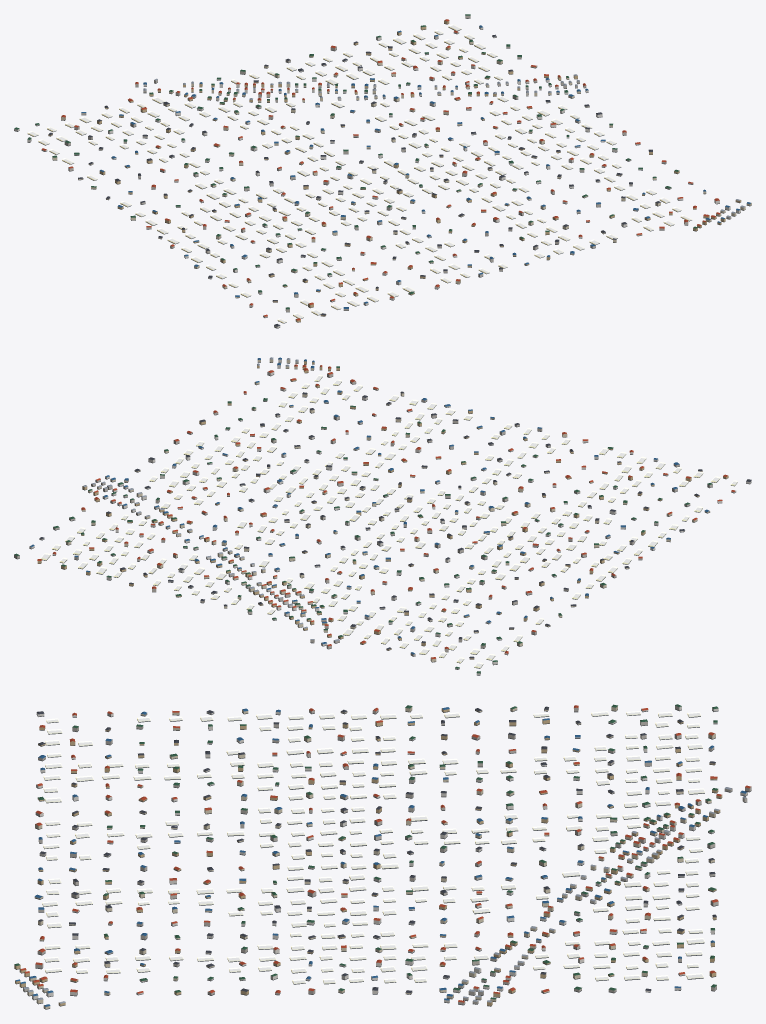
The model's file is buildings_T_W02_N02.glb.
3 views of the same model, one above another, from view 1: azimuth 30°, elevation 25°; view 2: azimuth 150°, elevation 25°; view 3: azimuth 270°, elevation 25° (orthographic). The views are drawn at different scales.
Visible parts, largest first — view 1: T_W02_N02_roofs_agri_greenhouse_arch, T_W02_N02_slope_seating_foundations, T_W02_N02_walls_wall_french_ochre_villa, T_W02_N02_walls_wall_dalat_cream_stucco, T_W02_N02_walls_wall_modern_warm_white, T_W02_N02_walls_wall_pastel_sand_gray, T_W02_N02_roofs_roof_terracotta_gable, T_W02_N02_roofs_roof_pine_green_hip, T_W02_N02_roofs_roof_slate_French_villa_hip, T_W02_N02_roofs_roof_highland_blue_gable; view 2: T_W02_N02_roofs_agri_greenhouse_arch, T_W02_N02_slope_seating_foundations, T_W02_N02_walls_wall_french_ochre_villa, T_W02_N02_walls_wall_dalat_cream_stucco, T_W02_N02_walls_wall_pastel_sand_gray, T_W02_N02_walls_wall_modern_warm_white, T_W02_N02_roofs_roof_terracotta_gable, T_W02_N02_roofs_roof_pine_green_hip, T_W02_N02_roofs_roof_slate_French_villa_hip, T_W02_N02_roofs_roof_highland_blue_gable; view 3: T_W02_N02_roofs_agri_greenhouse_arch, T_W02_N02_slope_seating_foundations, T_W02_N02_walls_wall_french_ochre_villa, T_W02_N02_walls_wall_dalat_cream_stucco, T_W02_N02_walls_wall_pastel_sand_gray, T_W02_N02_walls_wall_modern_warm_white, T_W02_N02_roofs_roof_terracotta_gable, T_W02_N02_roofs_roof_pine_green_hip, T_W02_N02_roofs_roof_slate_French_villa_hip, T_W02_N02_roofs_roof_highland_blue_gable, T_W02_N02_roofs_roof_zinc_silver_gable.
Boxes of the visible parts, x1,y1,x2,y2 form: T_W02_N02_roofs_agri_greenhouse_arch: (27, 24, 692, 323); T_W02_N02_slope_seating_foundations: (14, 18, 751, 328); T_W02_N02_walls_wall_french_ochre_villa: (48, 20, 741, 322); T_W02_N02_walls_wall_dalat_cream_stucco: (52, 40, 751, 297); T_W02_N02_walls_wall_modern_warm_white: (14, 26, 740, 328); T_W02_N02_walls_wall_pastel_sand_gray: (64, 15, 731, 311); T_W02_N02_roofs_roof_terracotta_gable: (41, 19, 720, 320); T_W02_N02_roofs_roof_pine_green_hip: (14, 14, 697, 309); T_W02_N02_roofs_roof_slate_French_villa_hip: (48, 34, 660, 326); T_W02_N02_roofs_roof_highland_blue_gable: (81, 25, 750, 308); T_W02_N02_roofs_agri_greenhouse_arch: (40, 374, 737, 667); T_W02_N02_slope_seating_foundations: (14, 362, 751, 675); T_W02_N02_walls_wall_french_ochre_villa: (37, 361, 728, 659); T_W02_N02_walls_wall_dalat_cream_stucco: (66, 359, 710, 661); T_W02_N02_walls_wall_pastel_sand_gray: (14, 361, 712, 656); T_W02_N02_walls_wall_modern_warm_white: (29, 359, 751, 674); T_W02_N02_roofs_roof_terracotta_gable: (37, 364, 734, 659); T_W02_N02_roofs_roof_pine_green_hip: (14, 366, 712, 673); T_W02_N02_roofs_roof_slate_French_villa_hip: (39, 391, 751, 658); T_W02_N02_roofs_roof_highland_blue_gable: (30, 357, 709, 654); T_W02_N02_roofs_agri_greenhouse_arch: (42, 711, 704, 983); T_W02_N02_slope_seating_foundations: (14, 709, 751, 1009); T_W02_N02_walls_wall_french_ochre_villa: (14, 708, 722, 1005); T_W02_N02_walls_wall_dalat_cream_stucco: (27, 706, 715, 1008); T_W02_N02_walls_wall_pastel_sand_gray: (23, 707, 751, 1004); T_W02_N02_walls_wall_modern_warm_white: (32, 705, 747, 1002); T_W02_N02_roofs_roof_terracotta_gable: (20, 705, 750, 1002); T_W02_N02_roofs_roof_pine_green_hip: (14, 704, 718, 999); T_W02_N02_roofs_roof_slate_French_villa_hip: (37, 706, 716, 993); T_W02_N02_roofs_roof_highland_blue_gable: (15, 707, 746, 1006); T_W02_N02_roofs_roof_zinc_silver_gable: (23, 787, 746, 1003).
Bounding box in the file's own units: 1873 × 45.62 × 1933.
